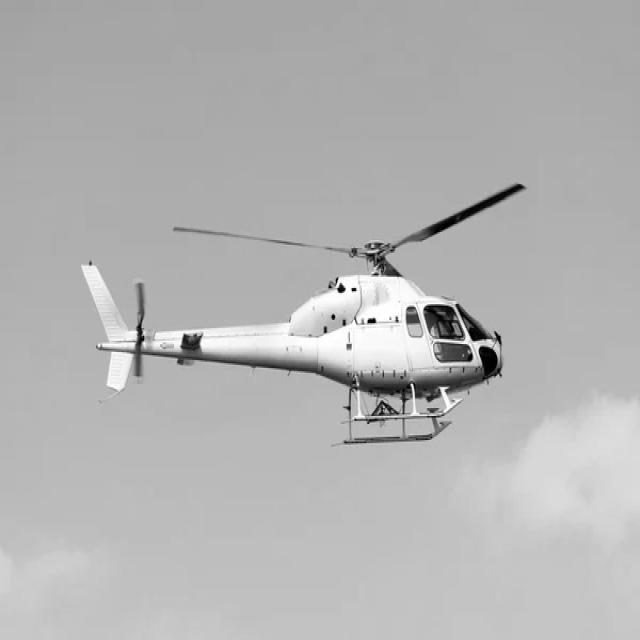Helicopter: (81, 184, 522, 444)
